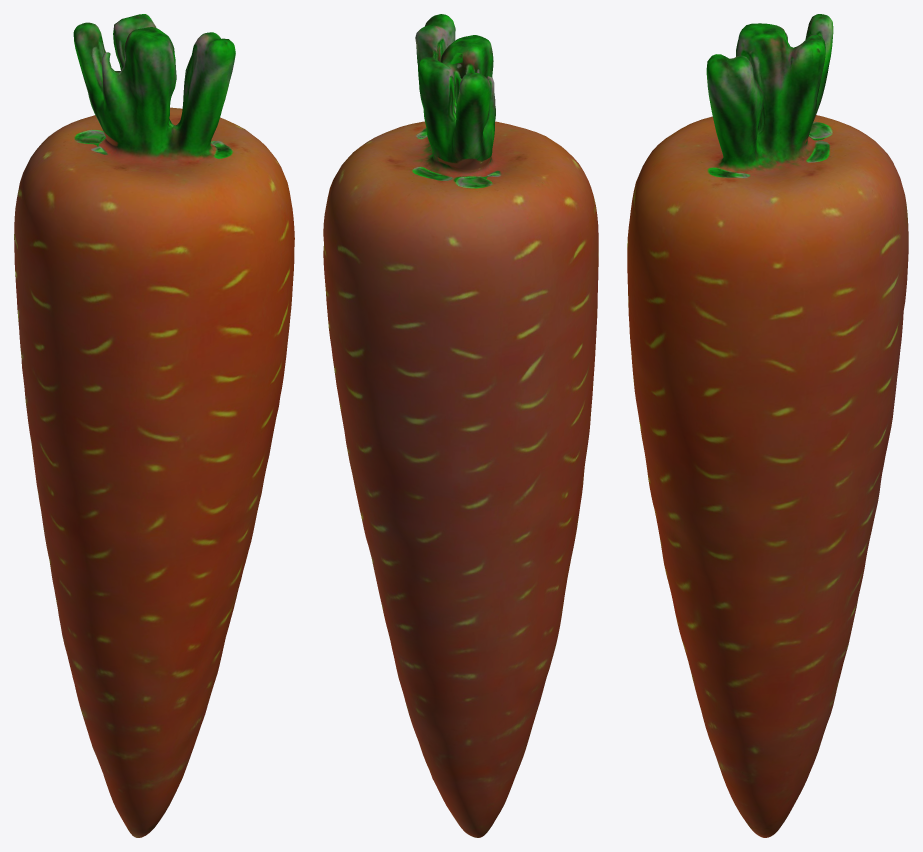
Rendered from cartoon_carrot_free_standard.glb.
3 renders of one model, left to right at view 1: azimuth 30°, elevation 25°; view 2: azimuth 150°, elevation 25°; view 3: azimuth 270°, elevation 25°, orthographic. The views are drawn at different scales.
Visible parts, largest first — view 1: base_material-material; view 2: base_material-material; view 3: base_material-material.
Part boxes in pixels (x1,y1,x2,y2): base_material-material: (14, 14, 294, 837); base_material-material: (323, 14, 598, 837); base_material-material: (627, 14, 908, 837).
Bounding box in the file's own units: 0.3118 × 0.9997 × 0.3135.
1 material, 1 textured.
